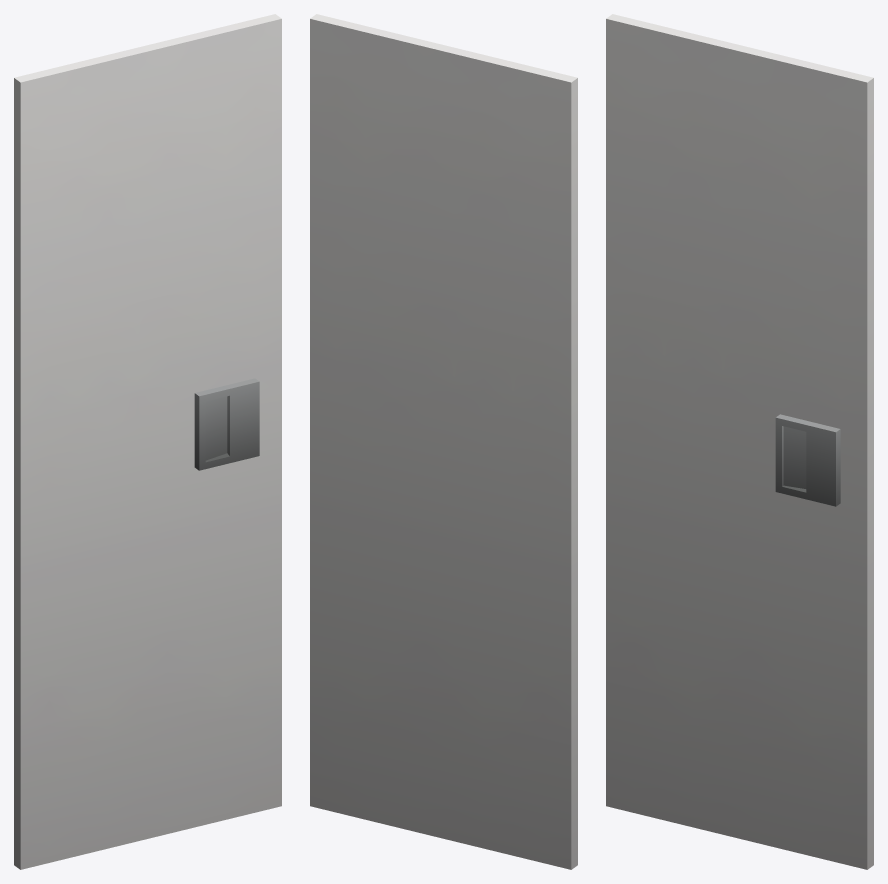
The model's file is Cupboard_Filing_Door_L.fbx.
The picture shows the model from 3 angles, left to right: view 1: azimuth 30°, elevation 25°; view 2: azimuth 150°, elevation 25°; view 3: azimuth 330°, elevation 25°; orthographic projection.
Parts seen in each view (by area): view 1: Cupboard_Filing_Door_L; view 2: Cupboard_Filing_Door_L; view 3: Cupboard_Filing_Door_L.
Boxes of the visible parts, x1,y1,x2,y2 form: Cupboard_Filing_Door_L: (14,14,281,869); Cupboard_Filing_Door_L: (310,14,577,869); Cupboard_Filing_Door_L: (606,14,873,869).
Size of the model in its own units: 56.5 by 163 by 4.13.
